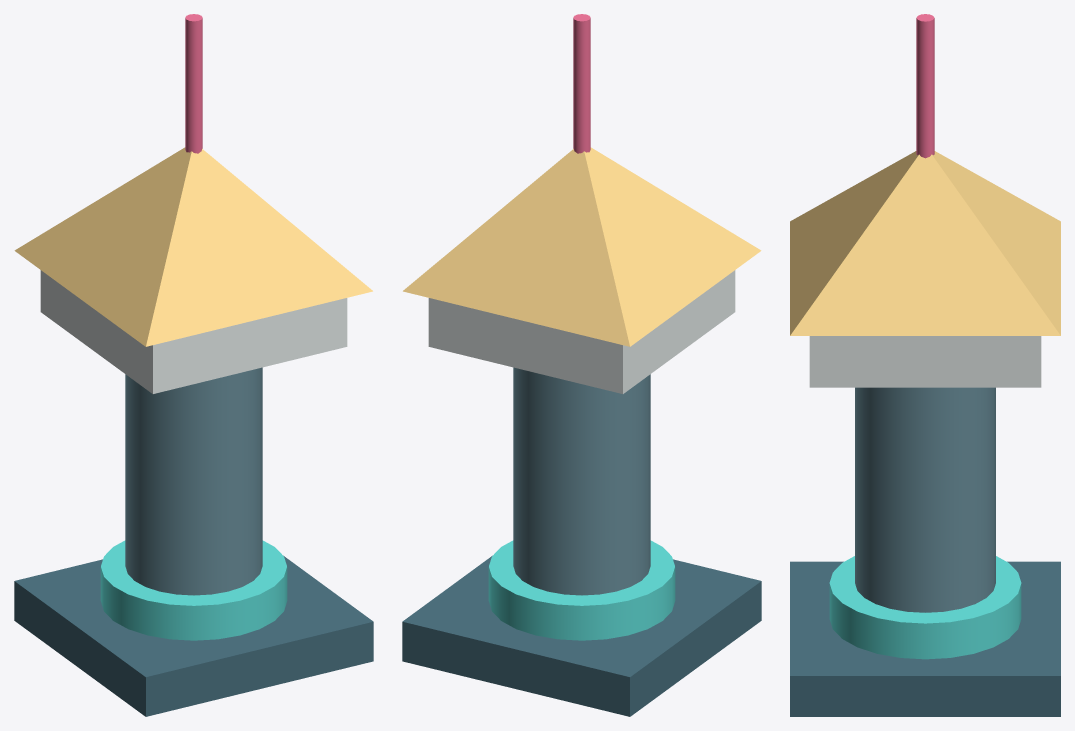
The model's file is command-tower.glb.
3 renders of one model, left to right at view 1: azimuth 30°, elevation 25°; view 2: azimuth 150°, elevation 25°; view 3: azimuth 270°, elevation 25°, orthographic. The views are drawn at different scales.
Visible parts, largest first — view 1: signal-roof, tower-core, foundation, command-deck, lower-ring, signal-mast; view 2: signal-roof, tower-core, foundation, command-deck, lower-ring, signal-mast; view 3: signal-roof, tower-core, foundation, command-deck, lower-ring, signal-mast.
Boxes of the visible parts, box(x1,y1,x2,y2) form: signal-roof: box(14, 147, 372, 346); tower-core: box(125, 367, 262, 595); foundation: box(14, 555, 373, 716); command-deck: box(40, 270, 347, 393); lower-ring: box(100, 540, 287, 640); signal-mast: box(185, 14, 202, 153); signal-roof: box(403, 147, 761, 346); tower-core: box(513, 367, 650, 595); foundation: box(402, 555, 761, 716); command-deck: box(428, 270, 735, 393); lower-ring: box(488, 540, 675, 640); signal-mast: box(573, 14, 590, 153); signal-roof: box(790, 151, 1060, 335); tower-core: box(855, 387, 995, 612); foundation: box(790, 561, 1060, 716); command-deck: box(809, 336, 1041, 387); lower-ring: box(829, 556, 1021, 659); signal-mast: box(916, 14, 934, 158).
Size of the model in its own units: 4.8 by 12.55 by 4.8.
